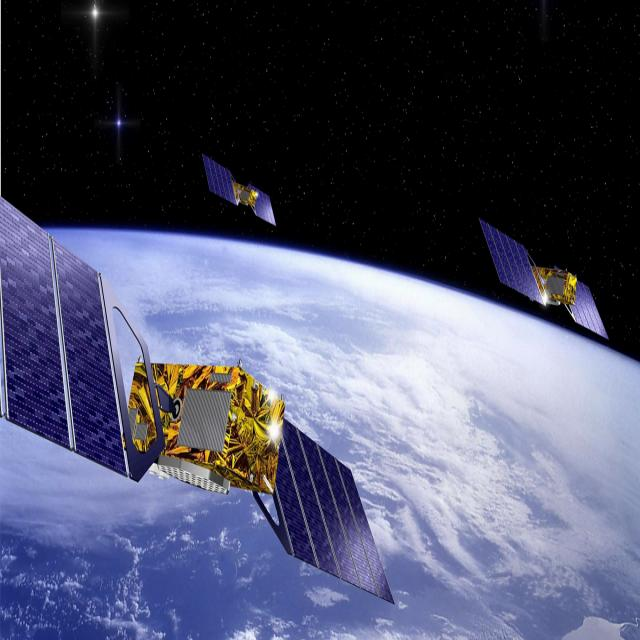medium_debris: (0, 206, 400, 614), (465, 208, 613, 348), (196, 168, 276, 222)
